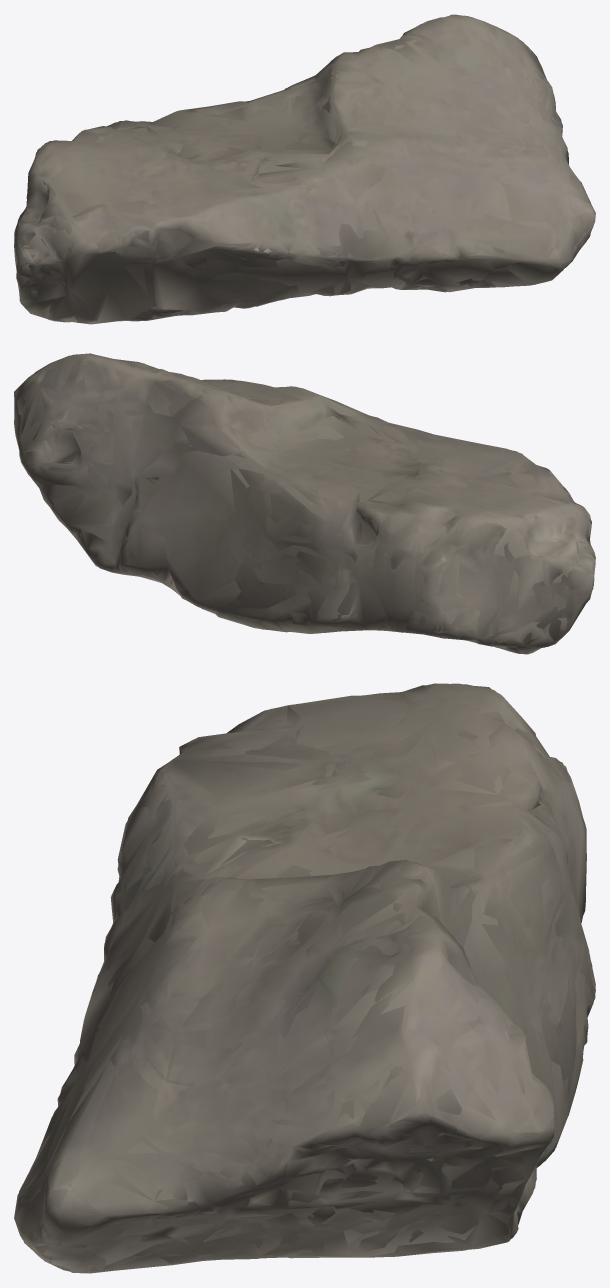
The model's file is rock01.glb.
3 views of the same model, one above another, from view 1: azimuth 30°, elevation 25°; view 2: azimuth 150°, elevation 25°; view 3: azimuth 270°, elevation 25° (orthographic). The views are drawn at different scales.
Visible parts, largest first — view 1: moon_rock_01_LOD0; view 2: moon_rock_01_LOD0; view 3: moon_rock_01_LOD0.
Part boxes in pixels (box(x1,y1,x2,y2)): moon_rock_01_LOD0: box(14, 14, 595, 324); moon_rock_01_LOD0: box(14, 353, 595, 654); moon_rock_01_LOD0: box(14, 683, 595, 1273).
Bounding box in the file's own units: 0.2123 × 0.0753 × 0.1117.
1 material, 1 textured.
